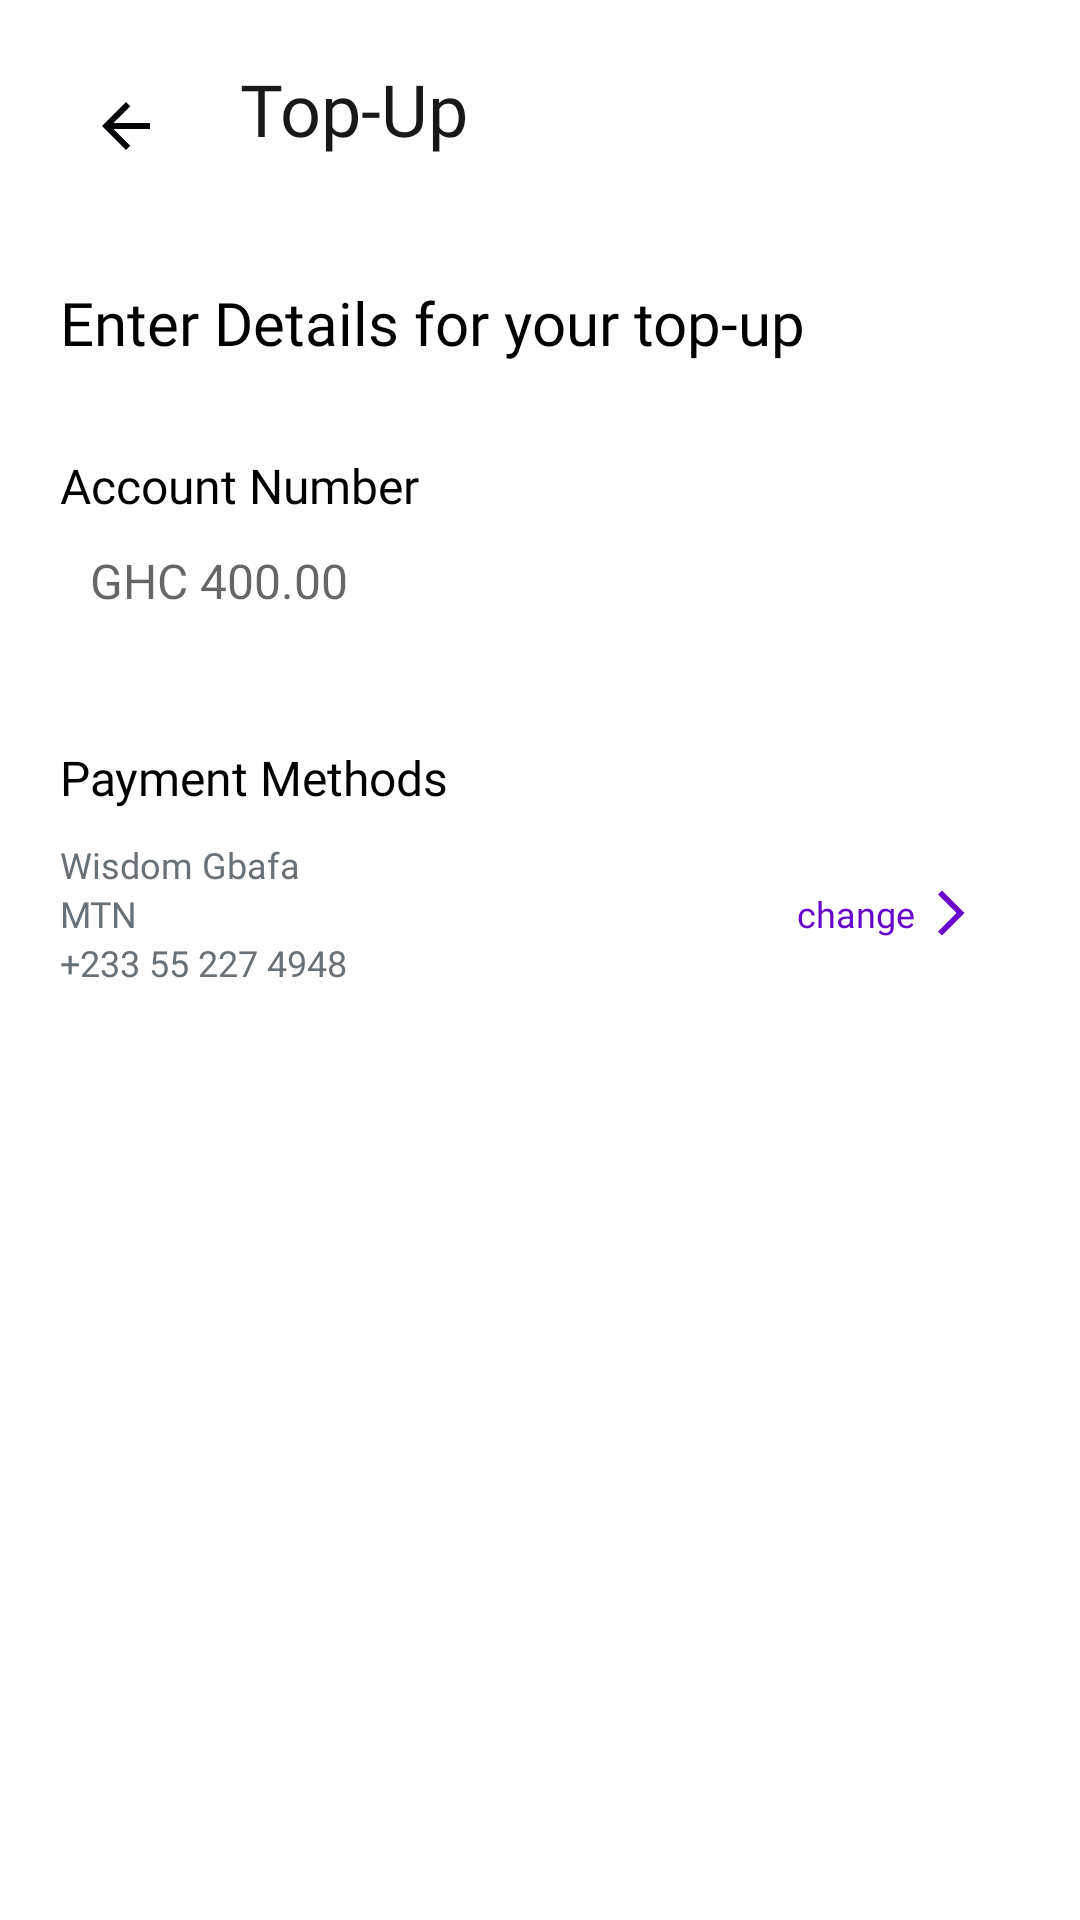

Icon click points for this 1080x1920 phone screenshot, format (x=x, y=y):
arrow back: (x=126, y=126)
right: (x=951, y=913)
